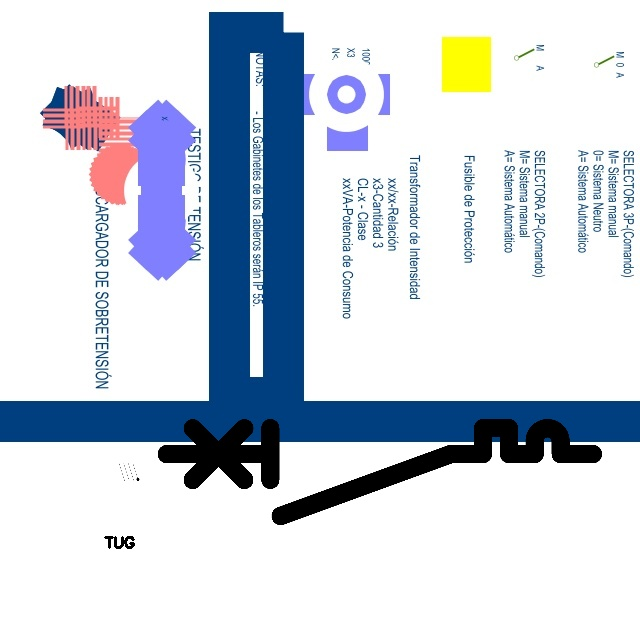interruptor_termomagnetico: (155, 417, 603, 526)
